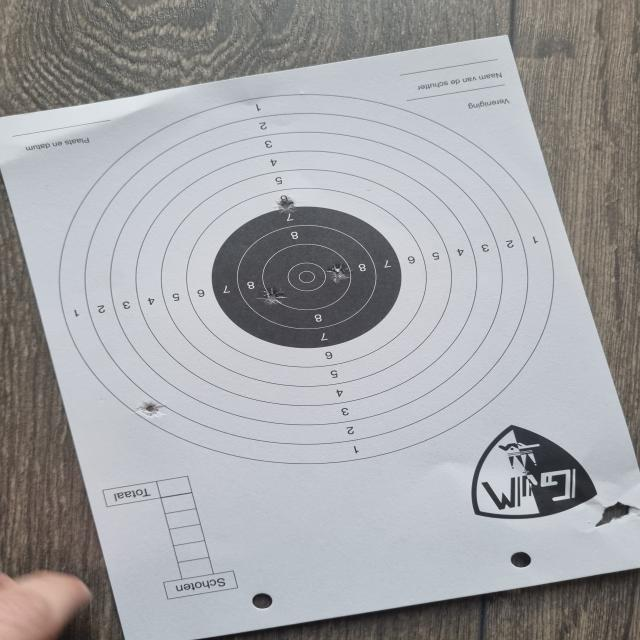2: (137, 402, 164, 416)
7: (276, 198, 297, 213)
9: (326, 262, 350, 282), (258, 288, 286, 304)
Target: (59, 91, 553, 466)
black_contour: (208, 208, 402, 348)
